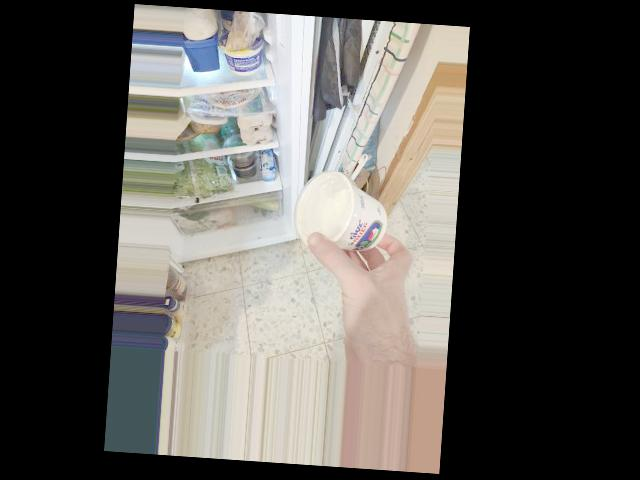cotage: (295, 175, 389, 255)
